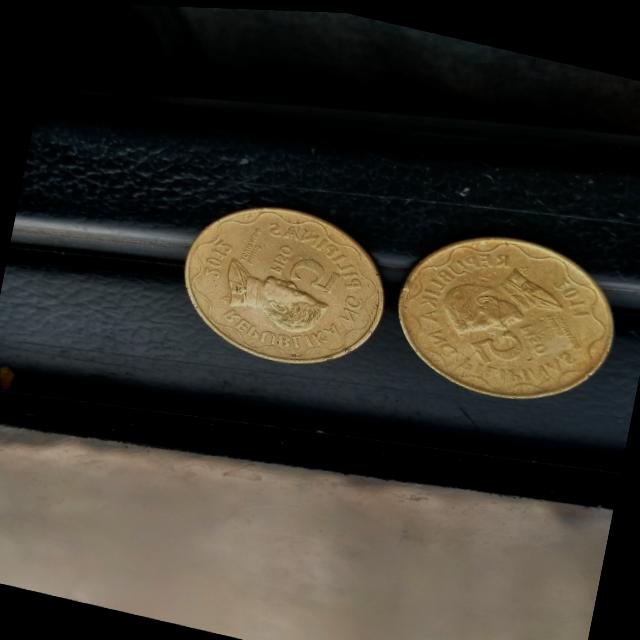5_Old_Front: (254, 233, 356, 311), (461, 300, 552, 382)
